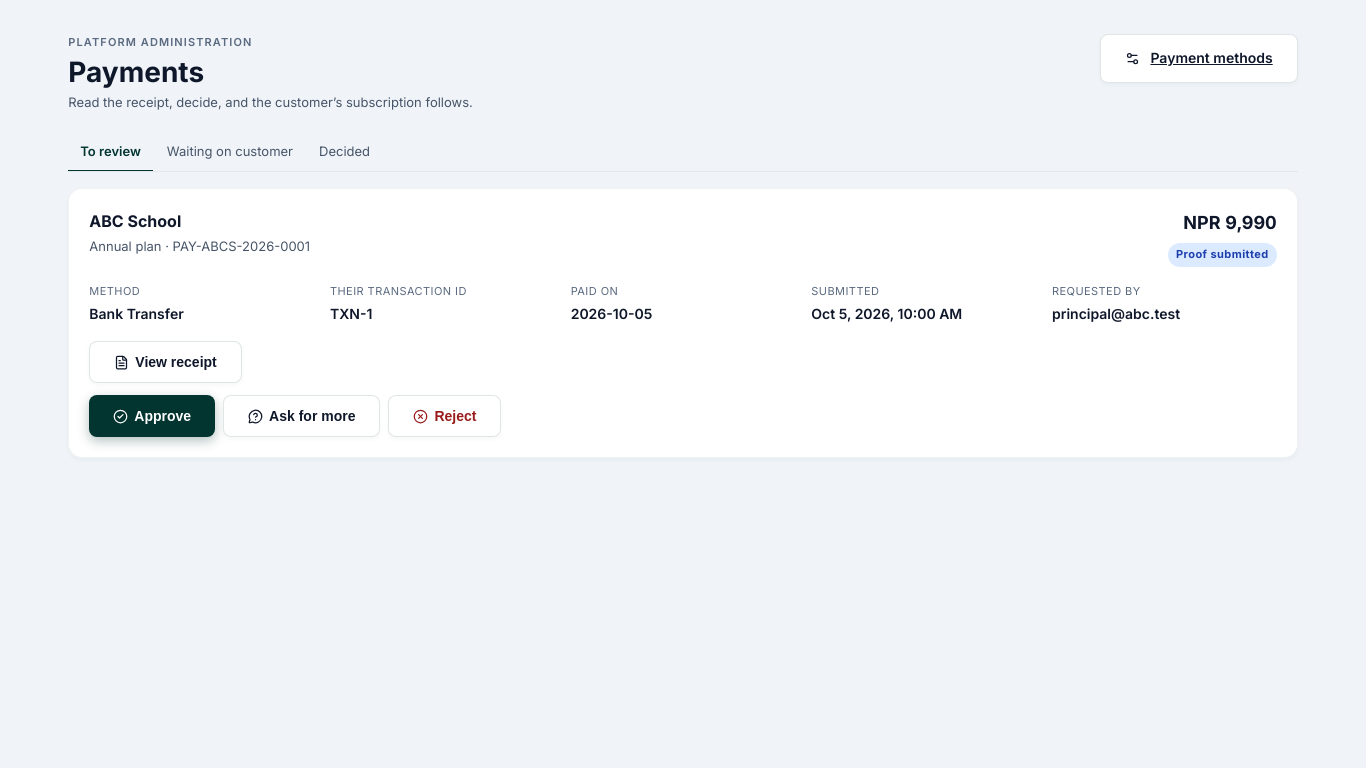
Test: the payment center › will not reject without a reason the customer can read
The width and height of the screenshot is (1366, 768).
Click the button "Reject" at [445, 416], box left=388, top=395, right=502, bottom=437
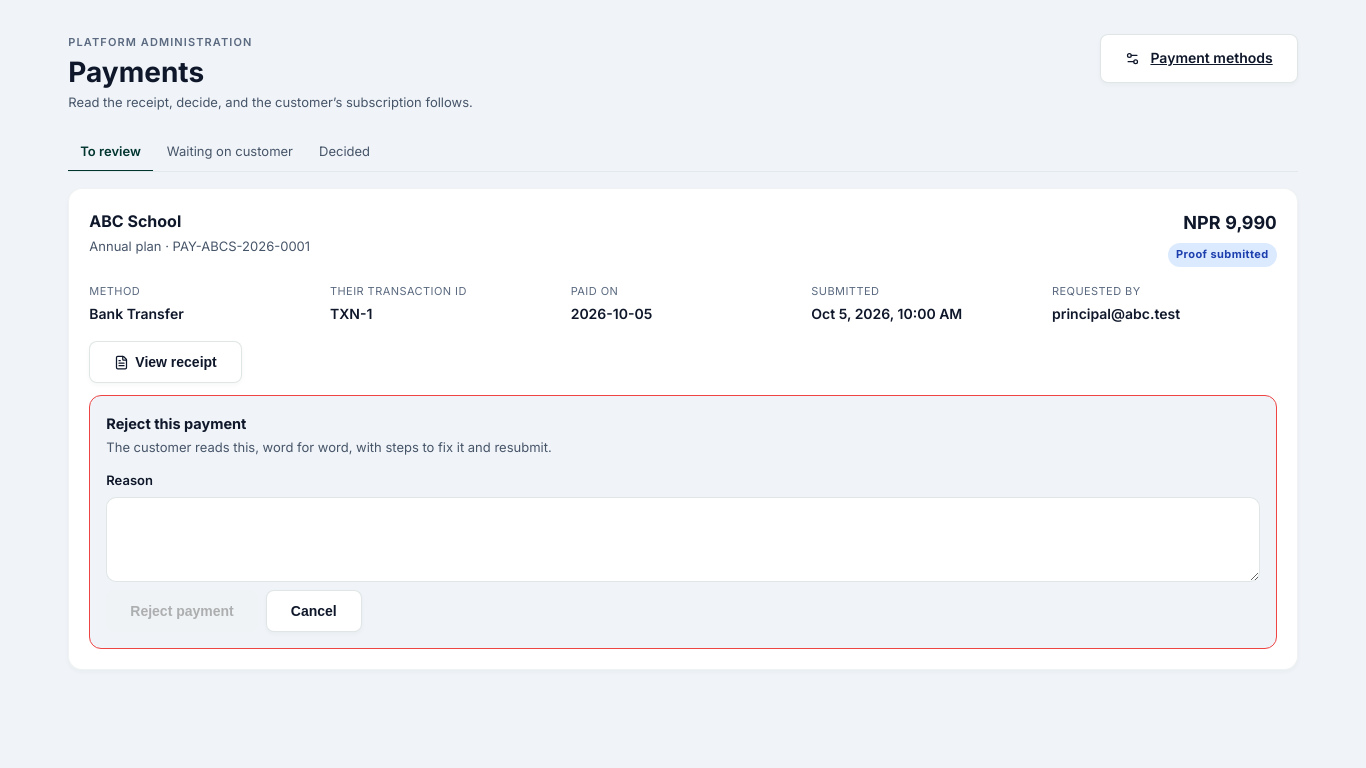
Expected: the button "Reject payment" is disabled, left=106, top=590, right=258, bottom=632
Type "Amount does not match." into the text box labelled "Reason" at [683, 539], box left=106, top=497, right=1260, bottom=582
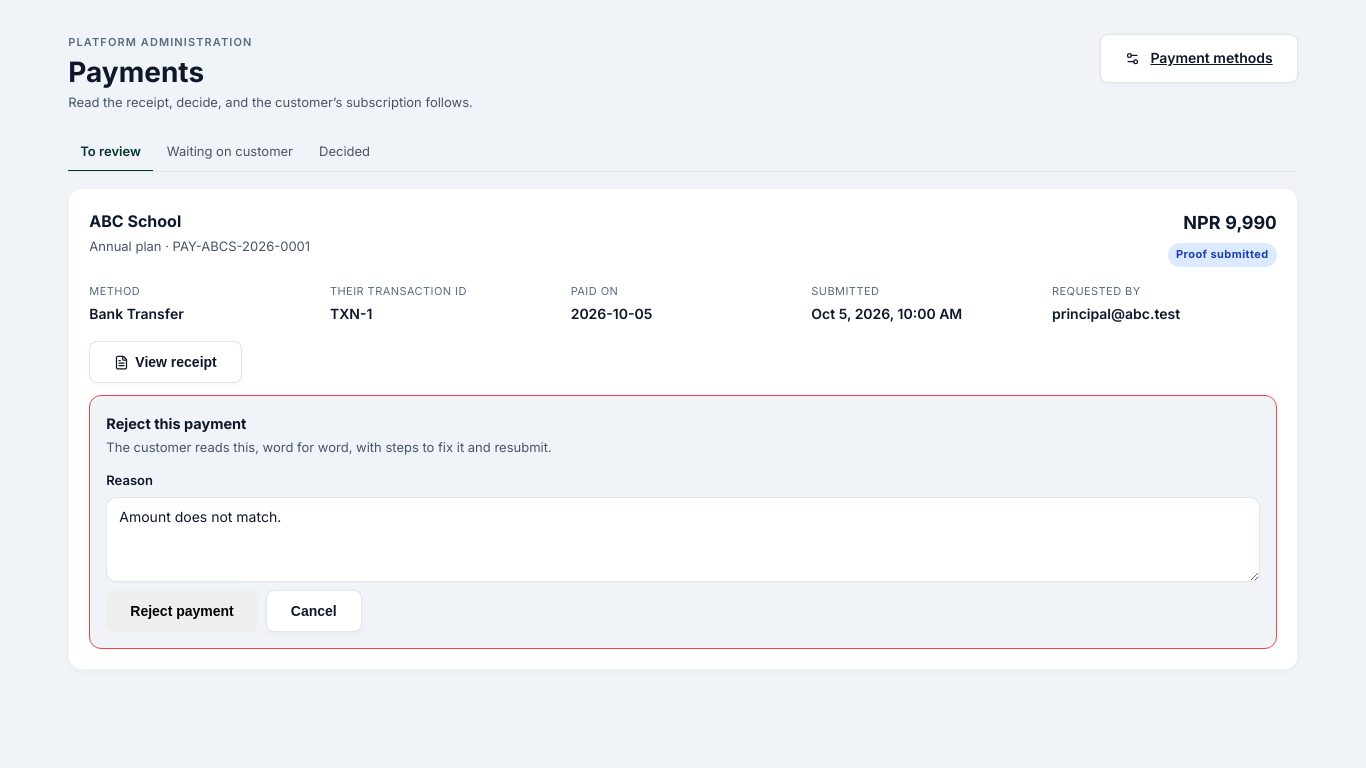
Expected: the button "Reject payment" is enabled, left=106, top=590, right=258, bottom=632
